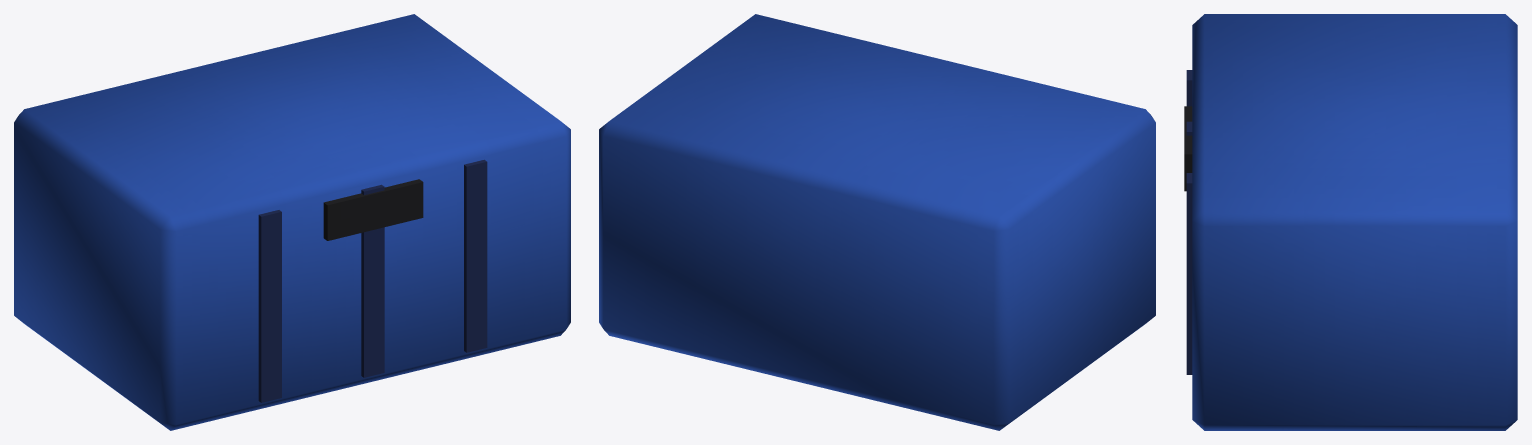
File: caixa_pecas.glb
3 views of the same model, side by side, from view 1: azimuth 30°, elevation 25°; view 2: azimuth 150°, elevation 25°; view 3: azimuth 270°, elevation 25° (orthographic). The views are drawn at different scales.
Parts seen in each view (by area): view 1: Inteiro; view 2: Inteiro; view 3: Inteiro.
Boxes of the visible parts, x1=… form: Inteiro: x1=14, y1=14, x2=570, y2=430; Inteiro: x1=599, y1=14, x2=1155, y2=430; Inteiro: x1=1184, y1=14, x2=1517, y2=430.
Size of the model in its own units: 0.6 by 0.3 by 0.41.
1 material, 1 textured.
